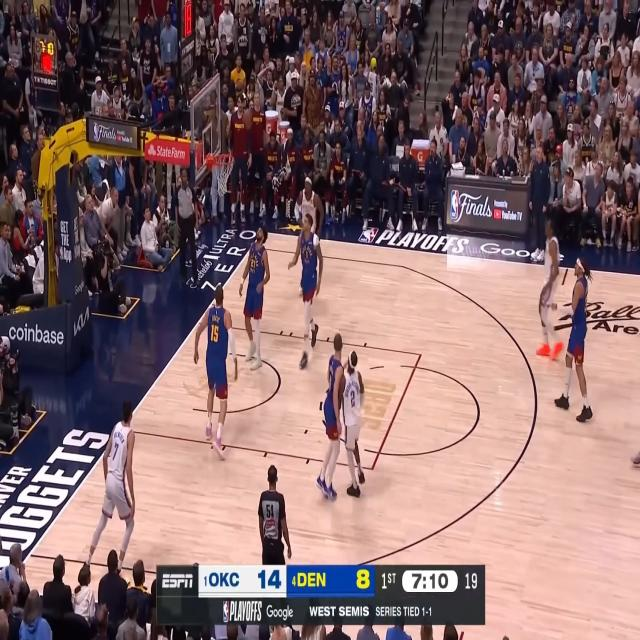ball: (240, 105, 253, 129)
number: (209, 325, 220, 344), (349, 386, 357, 411), (112, 441, 119, 461), (250, 258, 256, 269), (305, 249, 309, 260)
player: (86, 401, 136, 577), (196, 284, 238, 461), (553, 254, 594, 423), (288, 213, 324, 370), (315, 333, 345, 503), (239, 225, 271, 372), (537, 215, 566, 361), (294, 172, 324, 300), (341, 349, 365, 498)
referee: (258, 464, 293, 565), (174, 167, 200, 285)
rim: (214, 151, 236, 166)
